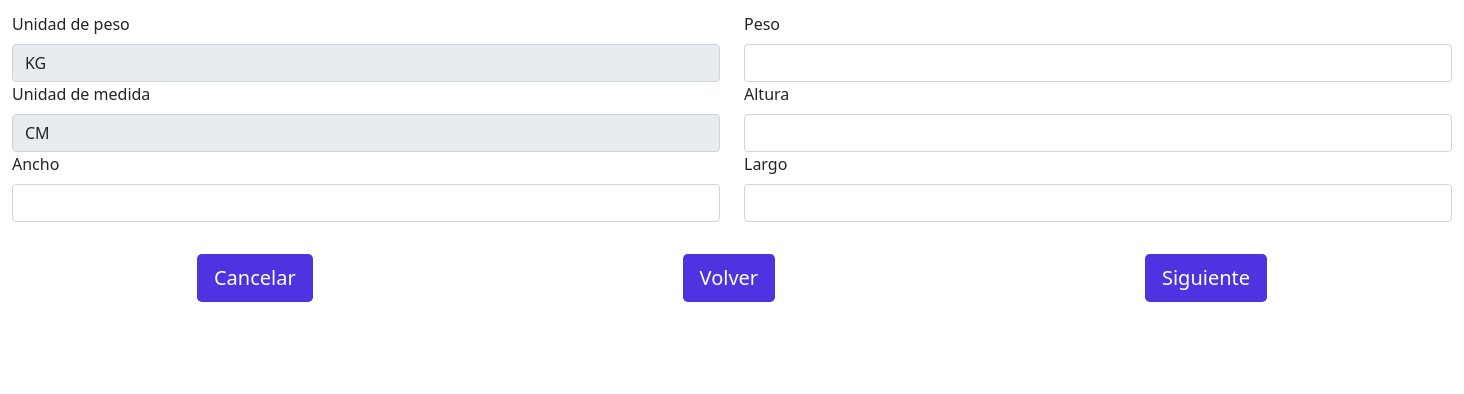
Test cases with ShippingParcel › Should show and error if a required field is empty
Type "1234" into the field labelled "Peso" at (1098, 63), box [744,44,1452,82]
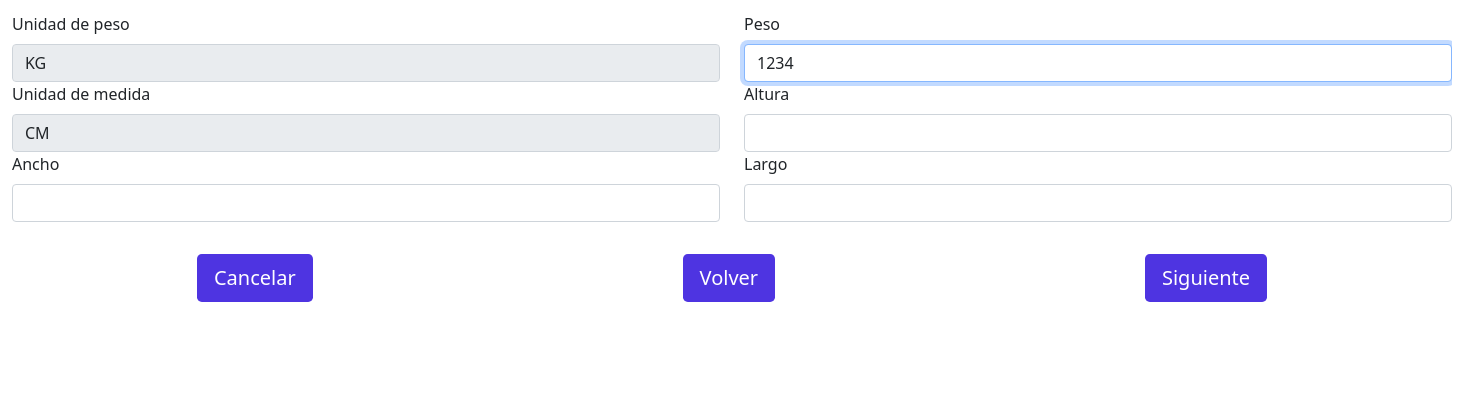
Type keys "{Backspace>4/}"
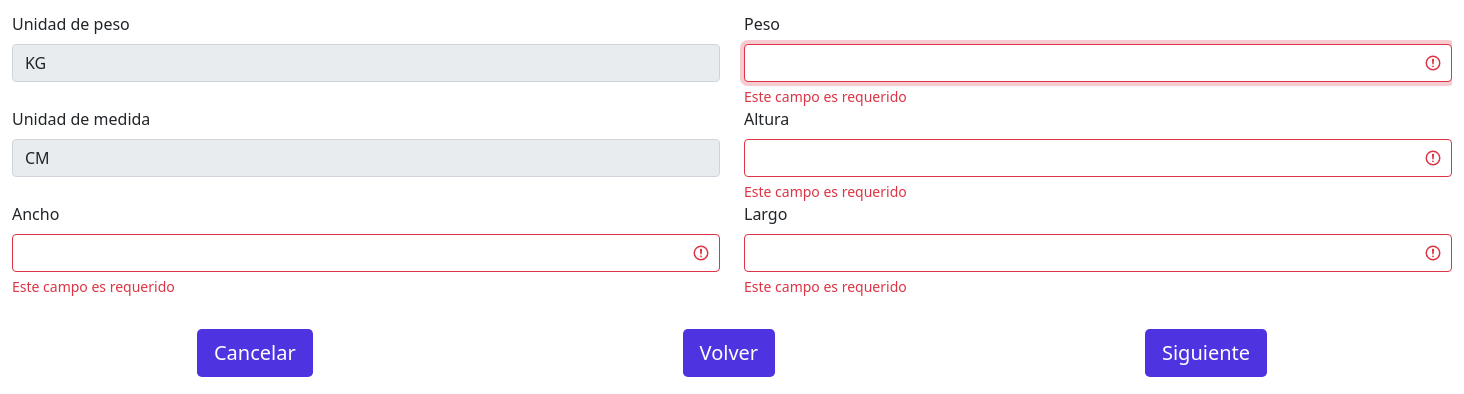
Now the 1st text "Este campo es requerido" is shown, box [744,87,907,106]
